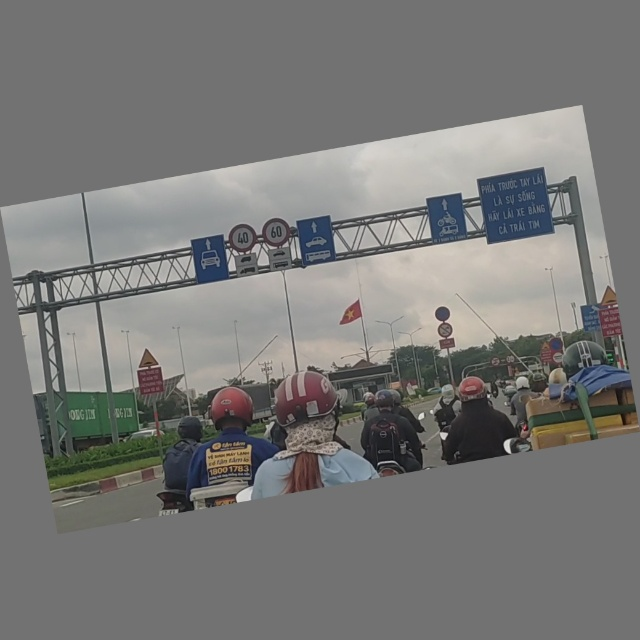Camera: (580, 303, 603, 334)
P.107: (504, 353, 516, 365), (490, 357, 501, 367)
P.111: (436, 322, 455, 340)
P.127*40: (226, 221, 259, 255)
P.127*60: (260, 216, 293, 249)
P.129: (551, 351, 565, 366)
P.130: (434, 306, 452, 323)
P.131a: (549, 337, 564, 352)
W.221b: (134, 347, 160, 370), (597, 284, 617, 308), (540, 341, 550, 352)
